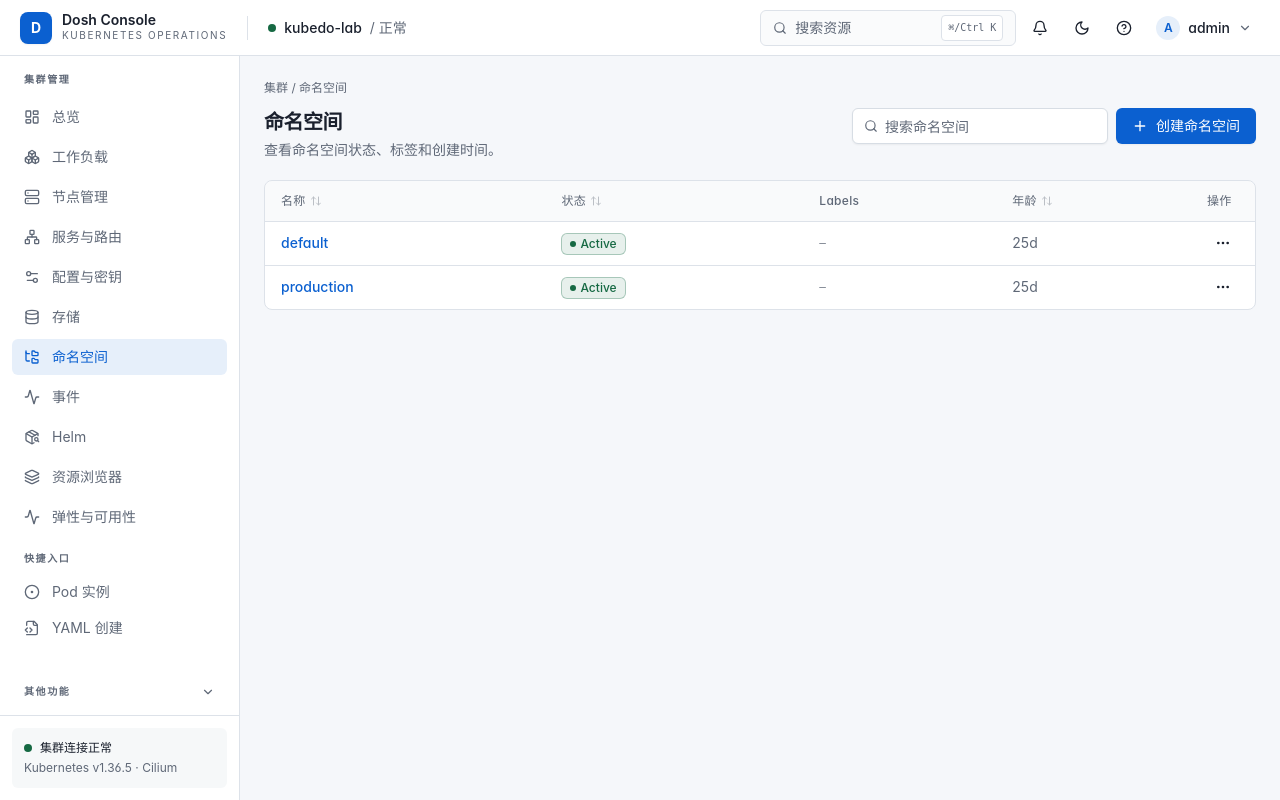
Test: dosh application › creates a namespace from the namespace table
Click the button "创建命名空间". click: (1186, 126)
box: [1116,108,1256,144]
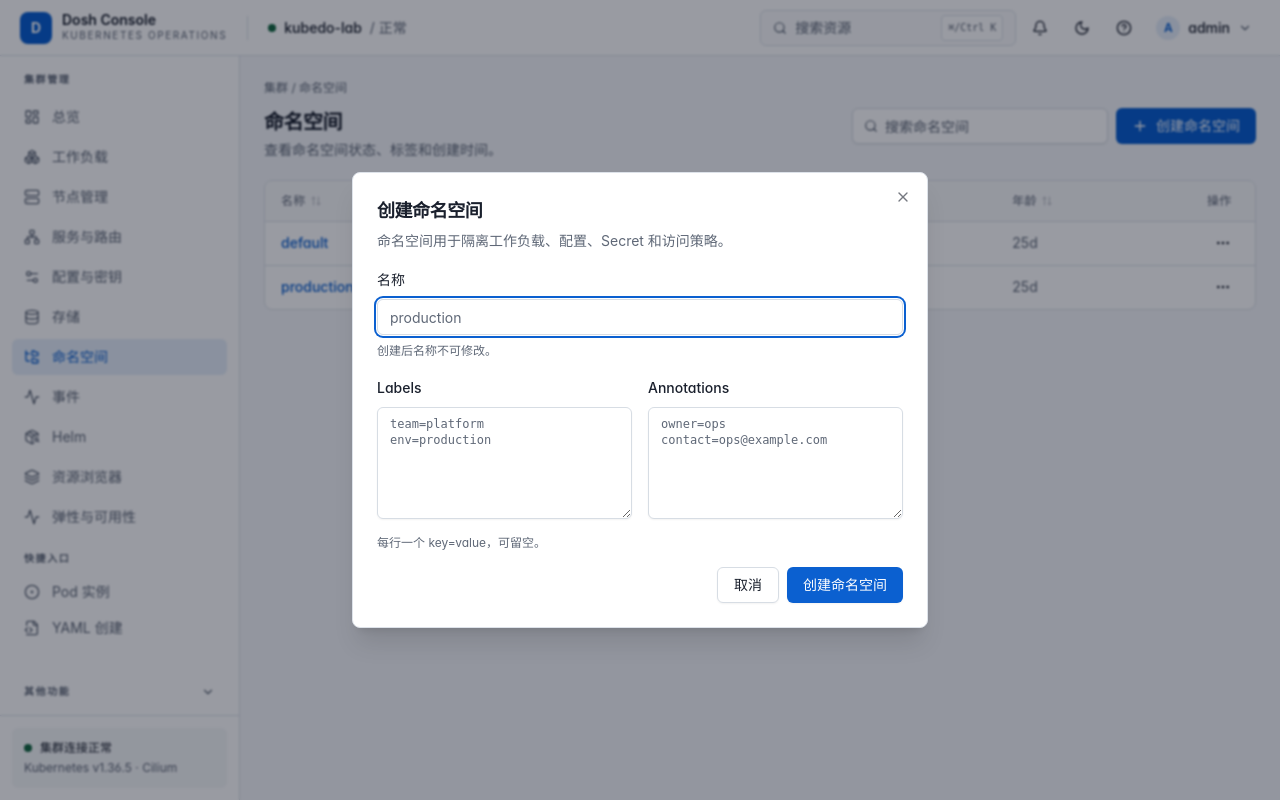
Type "preview" into the field labelled "名称". click: (640, 317)
box: [377,299,903,335]
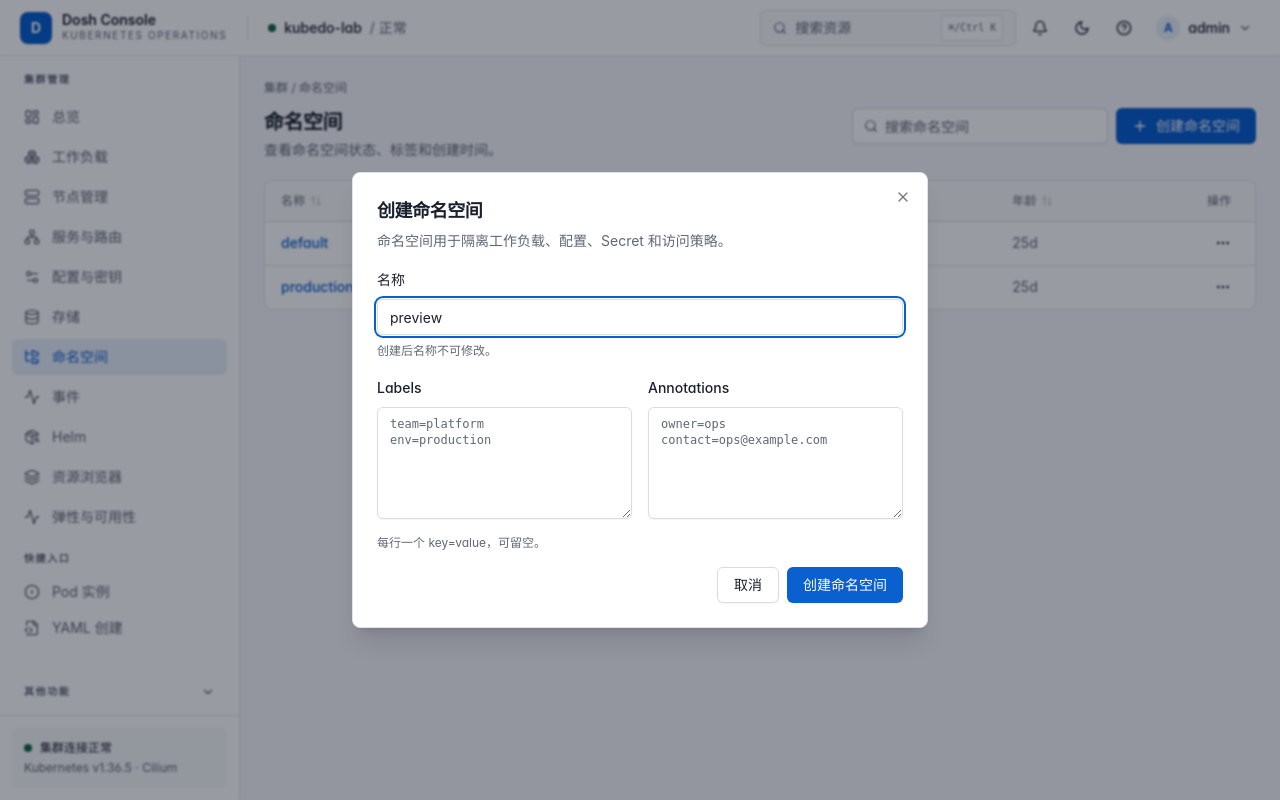
Type "team=platform" into the text box labelled "Labels". click: (504, 463)
box: [377,407,632,519]
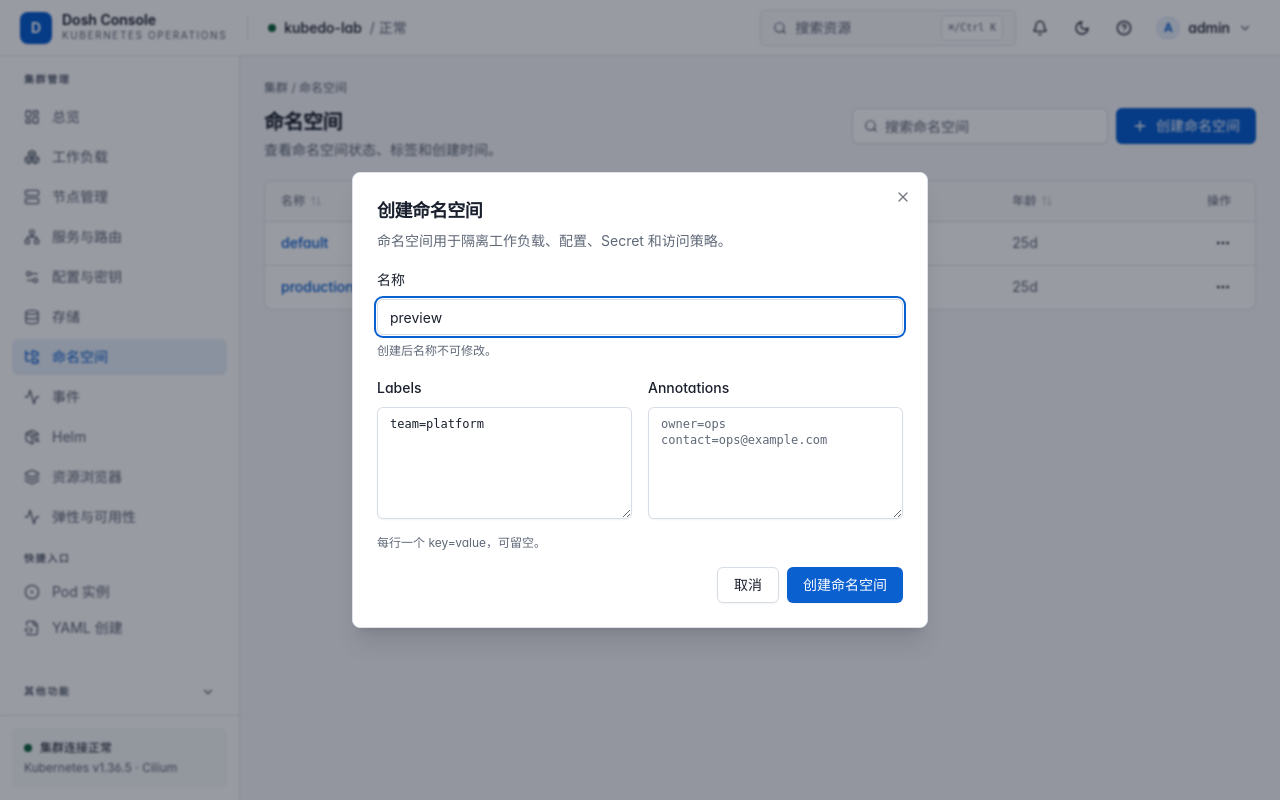
Type "owner=ops" into the text box labelled "Annotations". click: (776, 463)
box: [648,407,903,519]
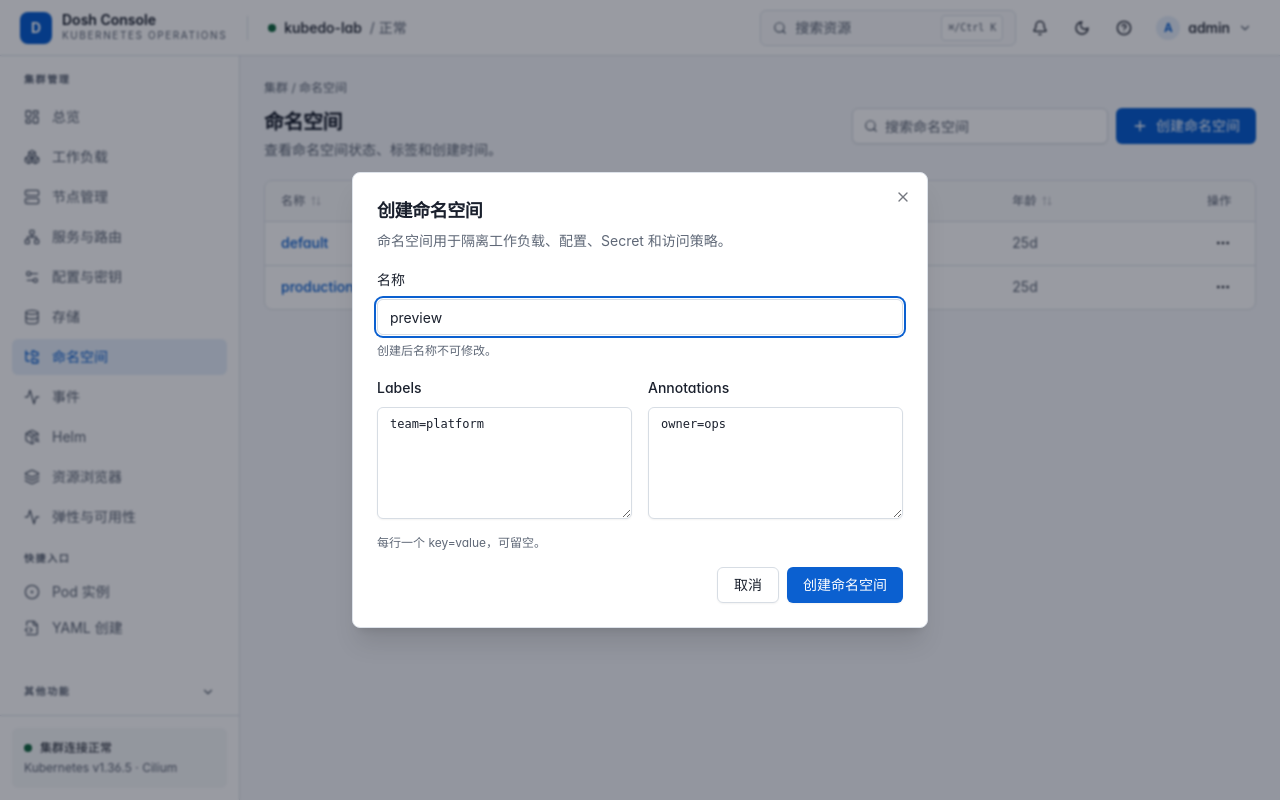
Click the button "创建命名空间". click: (845, 585)
box: [787,567,903,603]
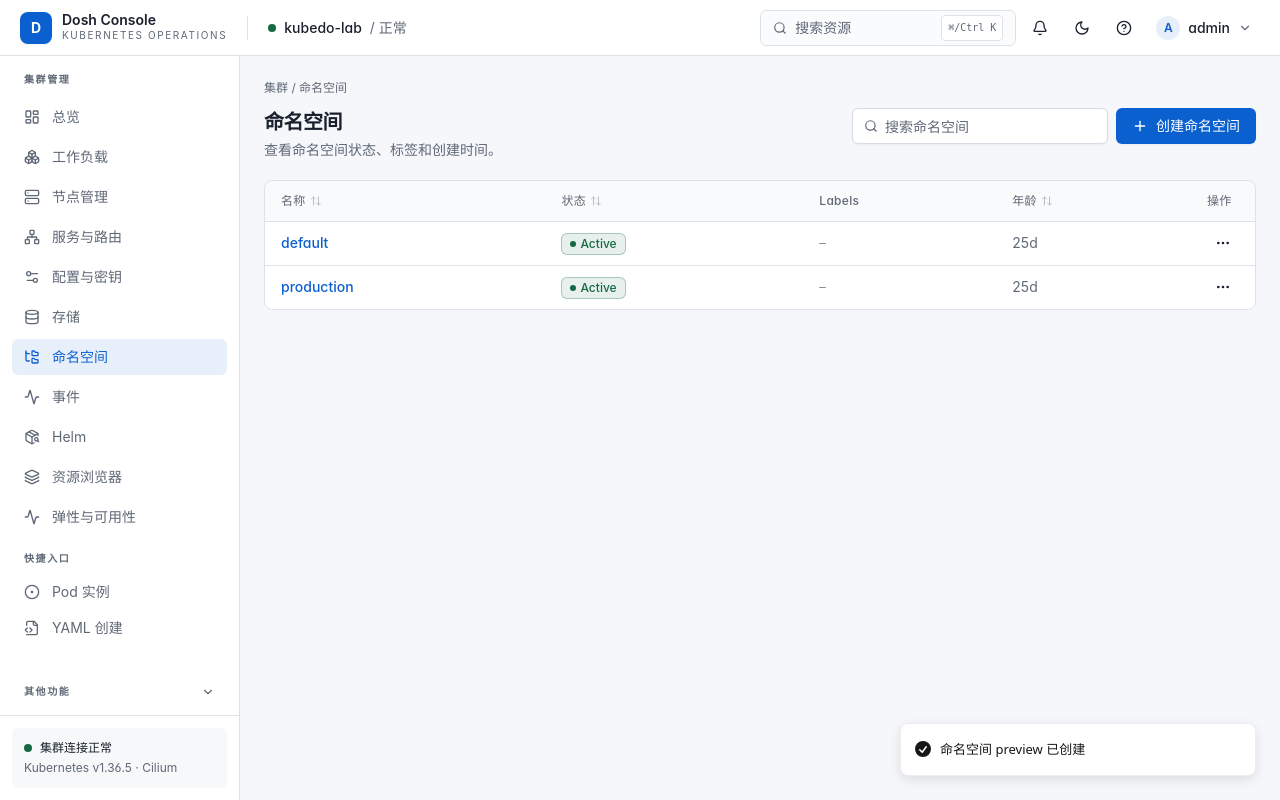
Expected: the text "命名空间 preview 已创建" is shown, [940,740,1085,759]
